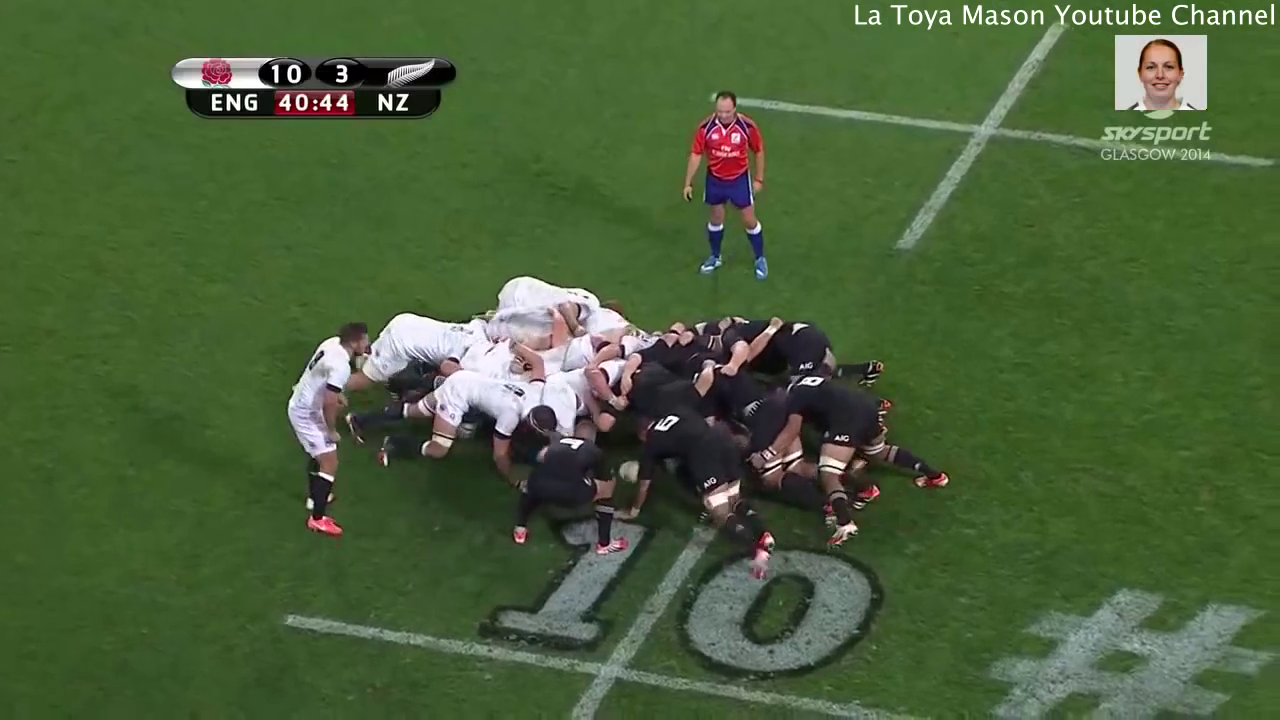10_metre: (272, 506, 944, 720), (697, 20, 1280, 264)
player: (783, 366, 965, 538), (632, 412, 780, 580), (670, 90, 786, 290), (280, 316, 381, 544), (341, 376, 561, 465), (512, 419, 637, 564), (331, 313, 489, 402)
scrum: (138, 376, 806, 720)
